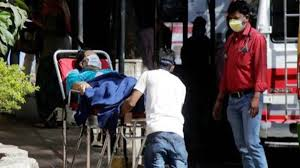mask: (224, 1, 250, 35), (81, 43, 102, 73)
